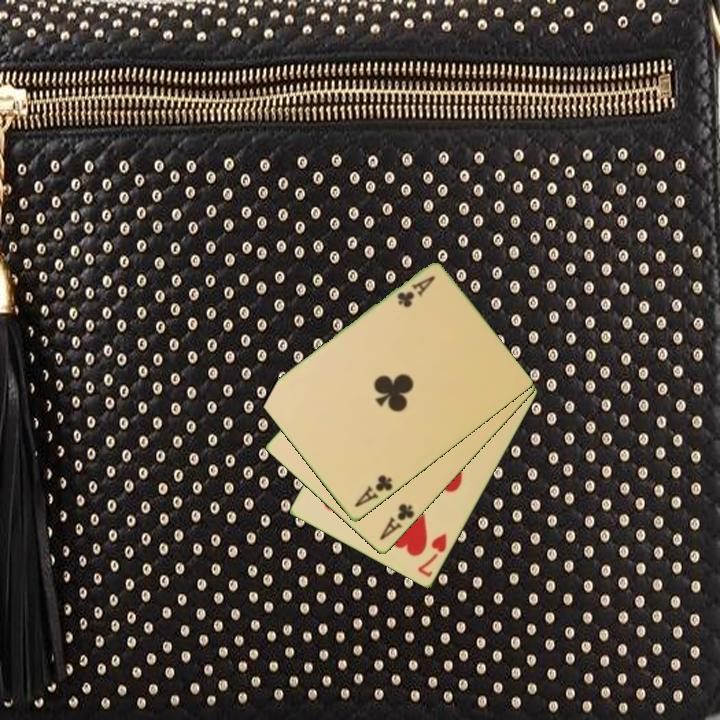7h: (414, 530, 450, 580)
Ac: (376, 500, 417, 544), (351, 471, 396, 511), (393, 273, 439, 311)
